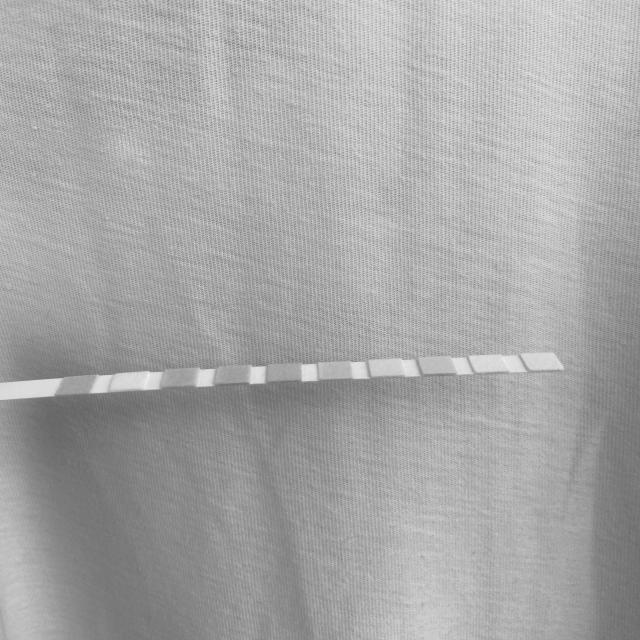Bilirubin: (116, 374, 143, 388)
Blood: (267, 364, 301, 380)
Glucose: (64, 378, 90, 392)
Ketone: (165, 370, 196, 386)
Leukocytes: (530, 353, 554, 369)
Nitrite: (476, 355, 501, 371)
Protein: (372, 360, 402, 376)
SpGravity: (218, 368, 250, 382)
Urobilinogen: (423, 357, 451, 374)
background: (0, 0, 640, 640)
pH: (318, 363, 351, 378)
strip: (6, 353, 564, 399)
